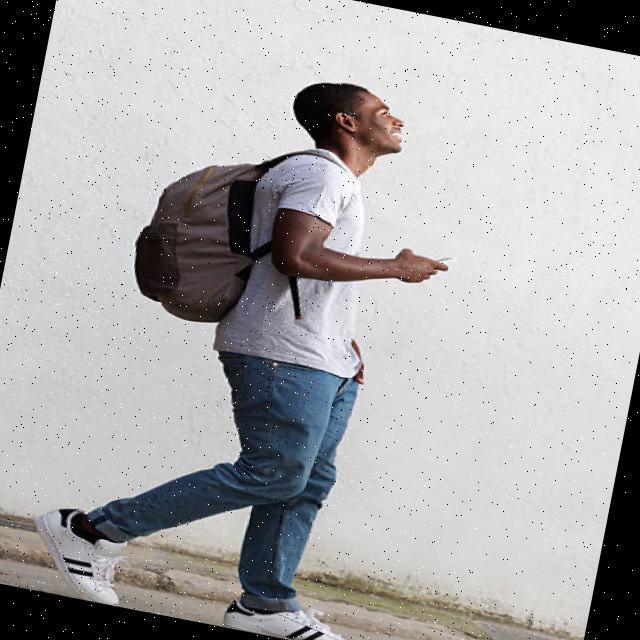Person: (23, 39, 476, 640)
